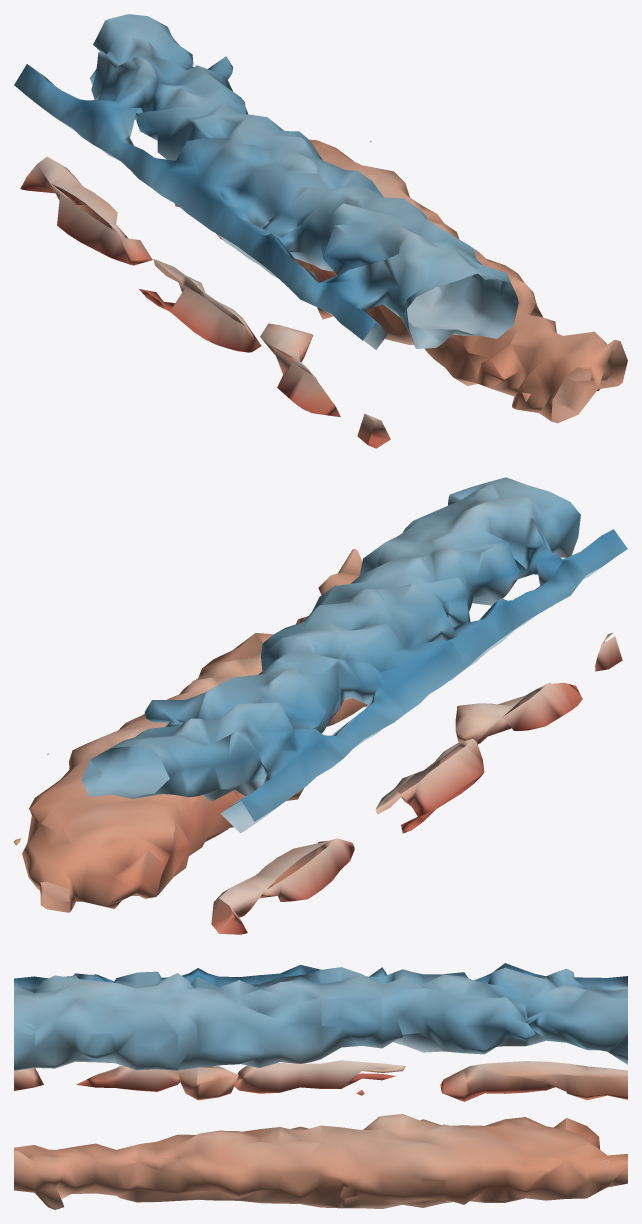
The picture shows the model from 3 angles, top to bottom: view 1: azimuth 30°, elevation 25°; view 2: azimuth 150°, elevation 25°; view 3: azimuth 270°, elevation 25°; orthographic projection. The views are drawn at different scales.
Bounding box in the file's own units: 1.17 × 0.802 × 2.5.
